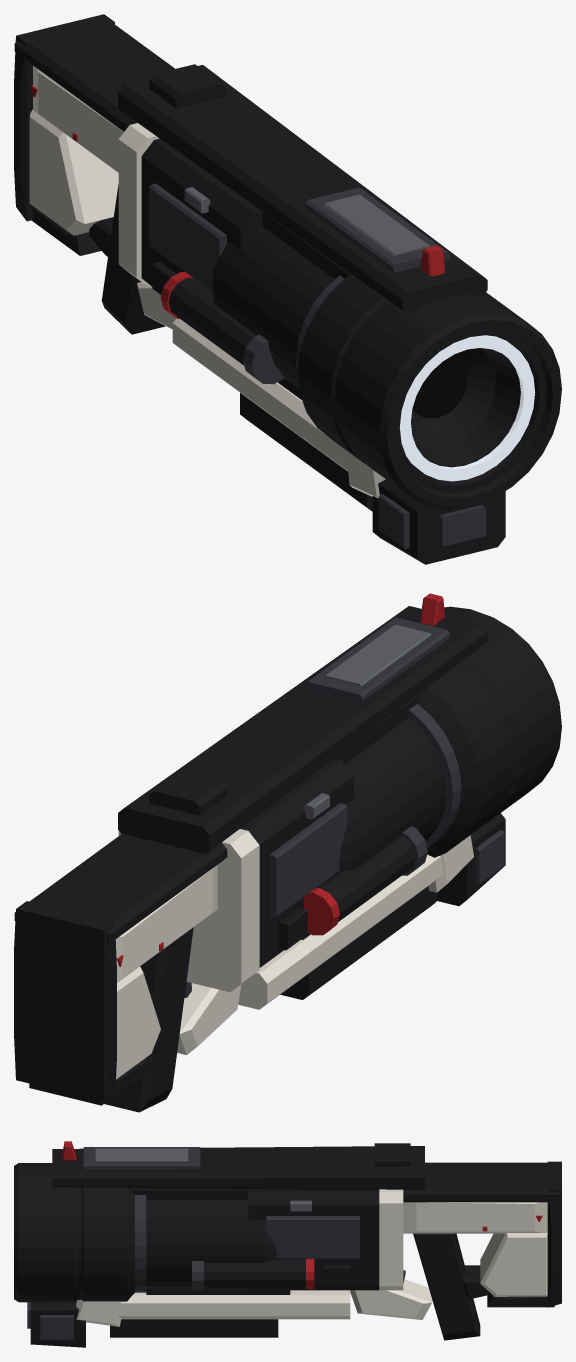
File: QuantumCannonClean.glb
3 views of the same model, one above another, from view 1: azimuth 30°, elevation 25°; view 2: azimuth 150°, elevation 25°; view 3: azimuth 270°, elevation 25° (orthographic). The views are drawn at different scales.
Visible parts, largest first — view 1: Body, Glow; view 2: Body; view 3: Body.
Boxes of the visible parts, left/top/right/bottom form: Body: left=14, top=14, right=561, bottom=564; Glow: left=399, top=335, right=535, bottom=481; Body: left=14, top=593, right=561, bottom=1112; Body: left=14, top=1141, right=561, bottom=1347.
Bounding box in the file's own units: 1.16 × 1.76 × 4.56.
Materials: 2 (2 with a texture image).
